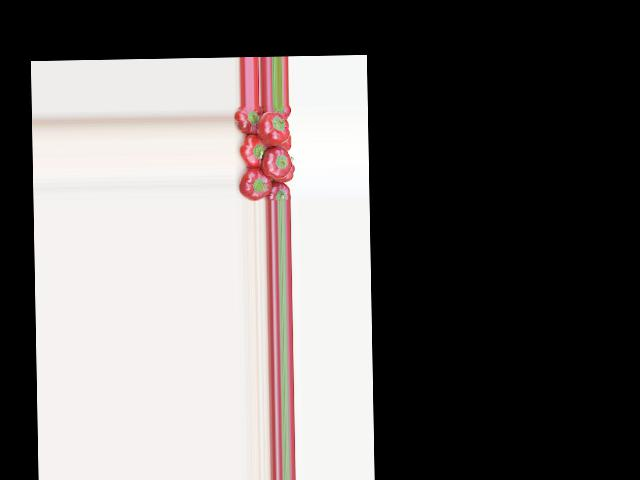bell_pepper: (279, 137, 293, 151)
